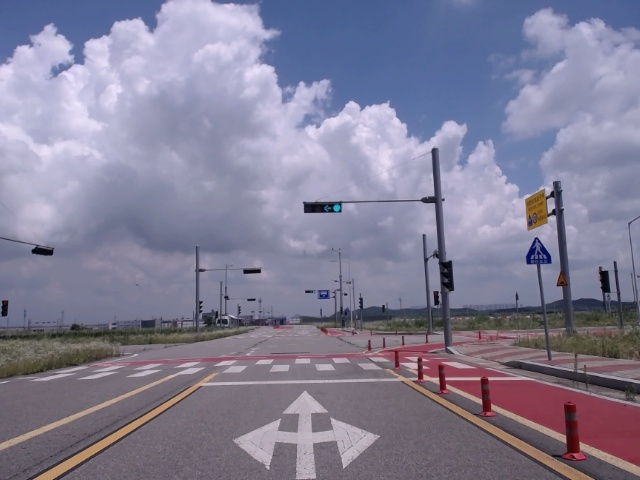all_green_4: (302, 201, 347, 215)
